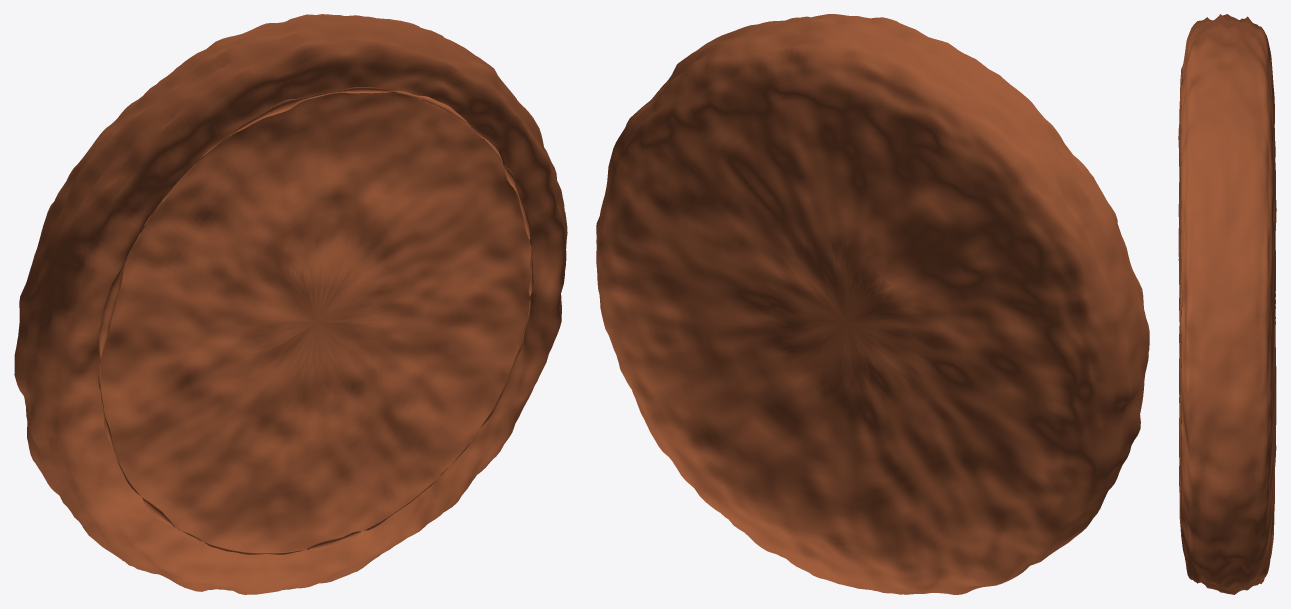
Rendered from Carne.glb.
3 views of the same model, side by side, from view 1: azimuth 30°, elevation 25°; view 2: azimuth 150°, elevation 25°; view 3: azimuth 270°, elevation 25° (orthographic). The views are drawn at different scales.
Visible parts, largest first — view 1: imagetostl_mesh2; view 2: imagetostl_mesh2; view 3: imagetostl_mesh2.
Boxes of the visible parts, x1,y1,x2,y2 form: imagetostl_mesh2: (14,14,567,594); imagetostl_mesh2: (596,14,1149,594); imagetostl_mesh2: (1178,14,1276,594).
Bounding box in the file's own units: 0.3189 × 0.318 × 0.0536.
